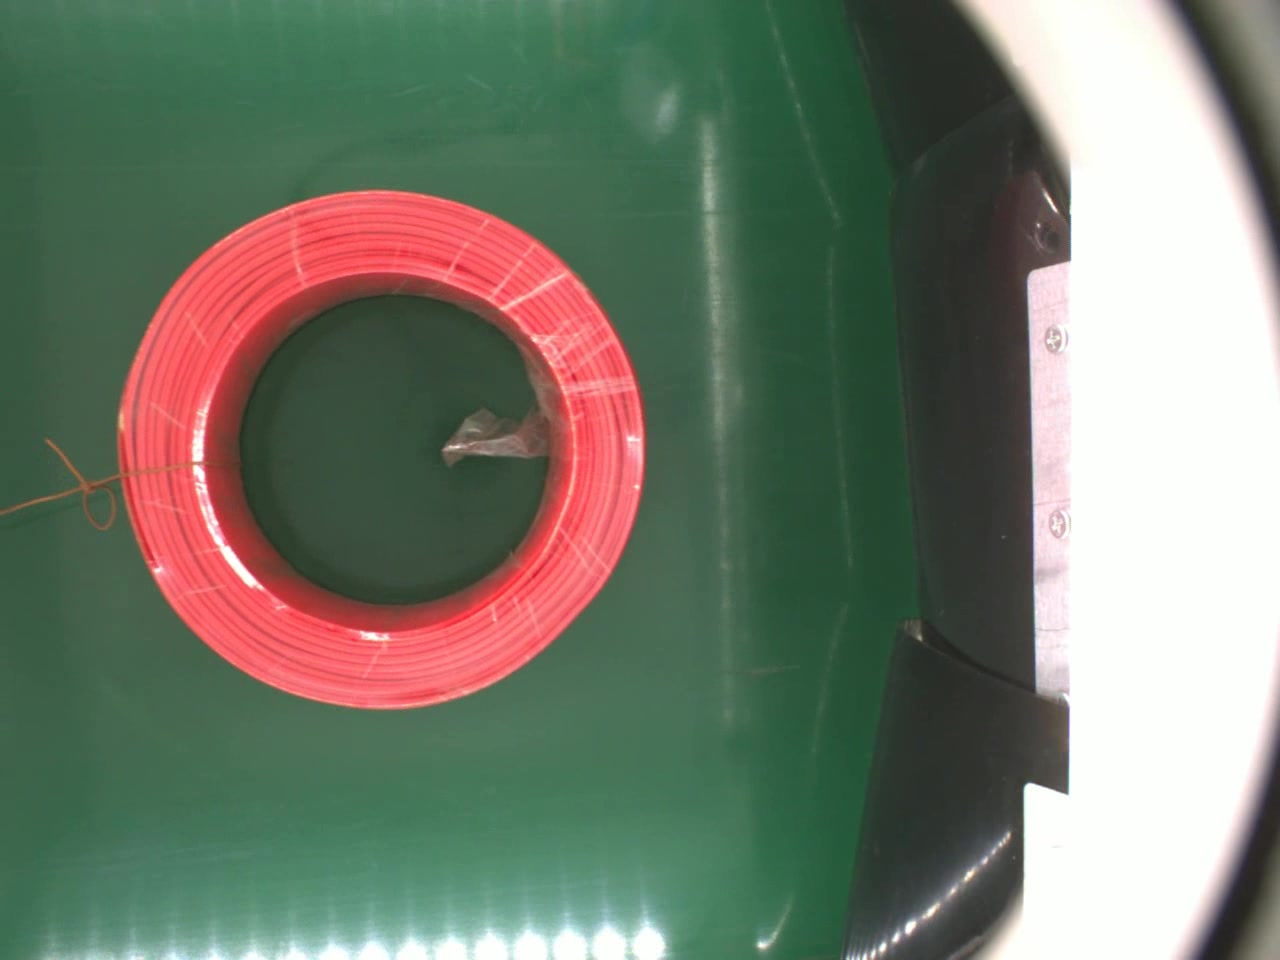red: (115, 186, 651, 717)
